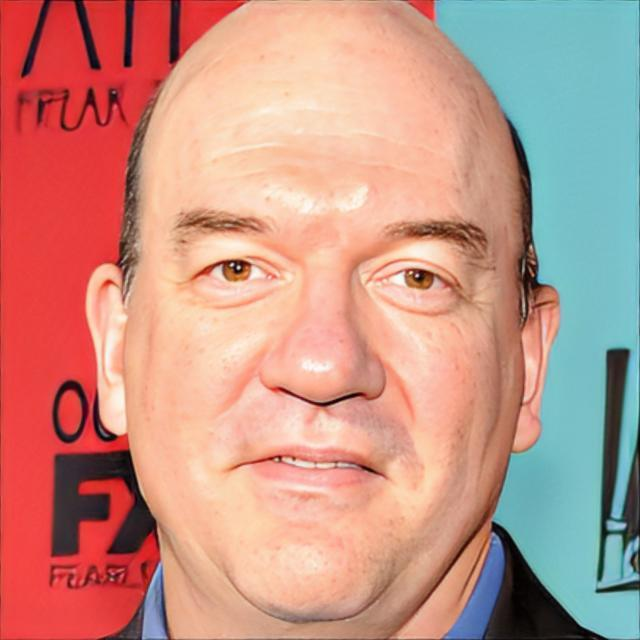disgust: (127, 65, 526, 622)
